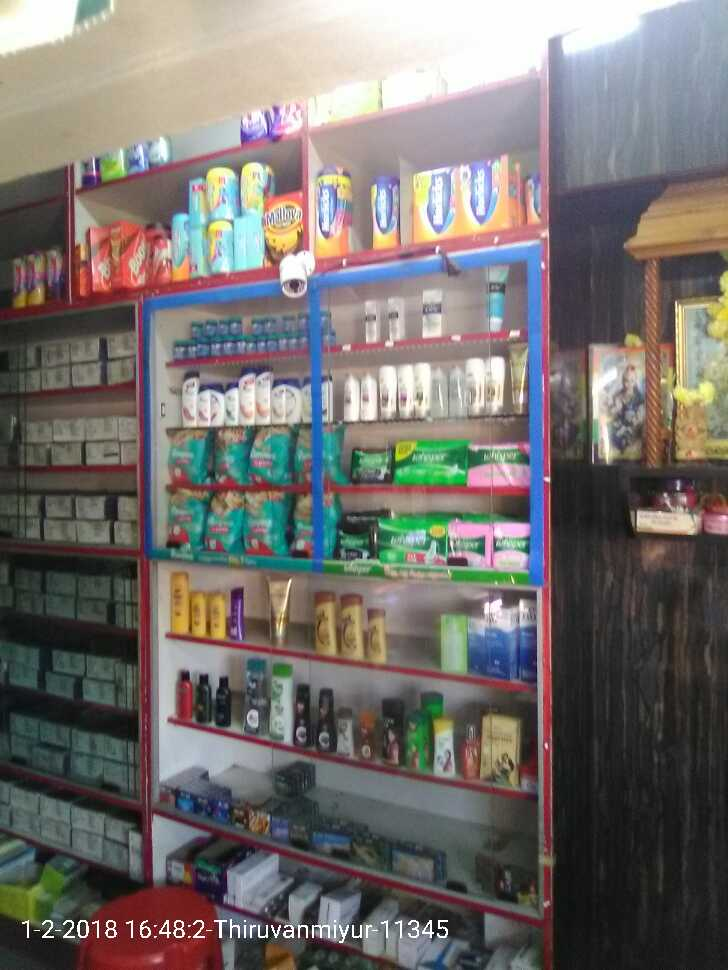vicks: (173, 317, 344, 360)
